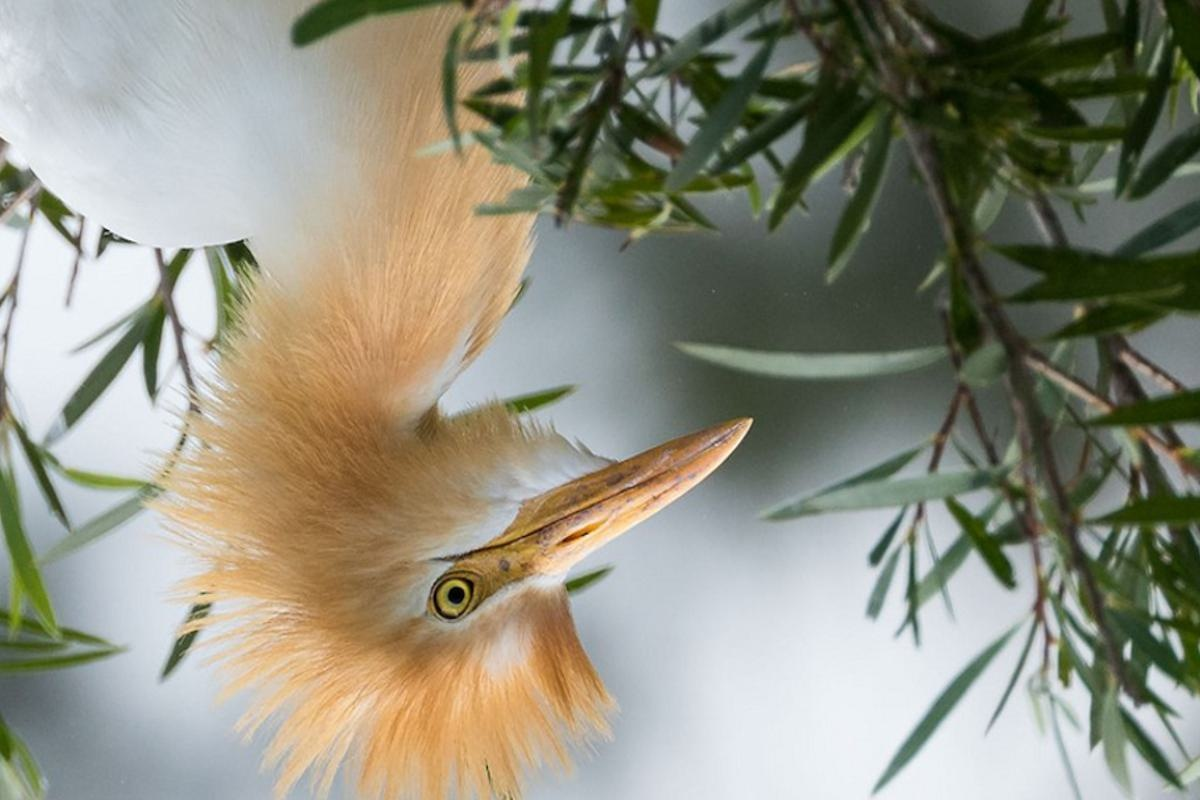egret: (130, 1, 755, 774)
